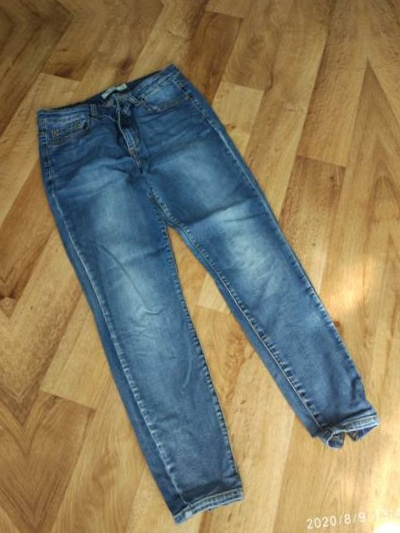Pants: (8, 22, 387, 516), (396, 0, 400, 468), (0, 70, 3, 533)
